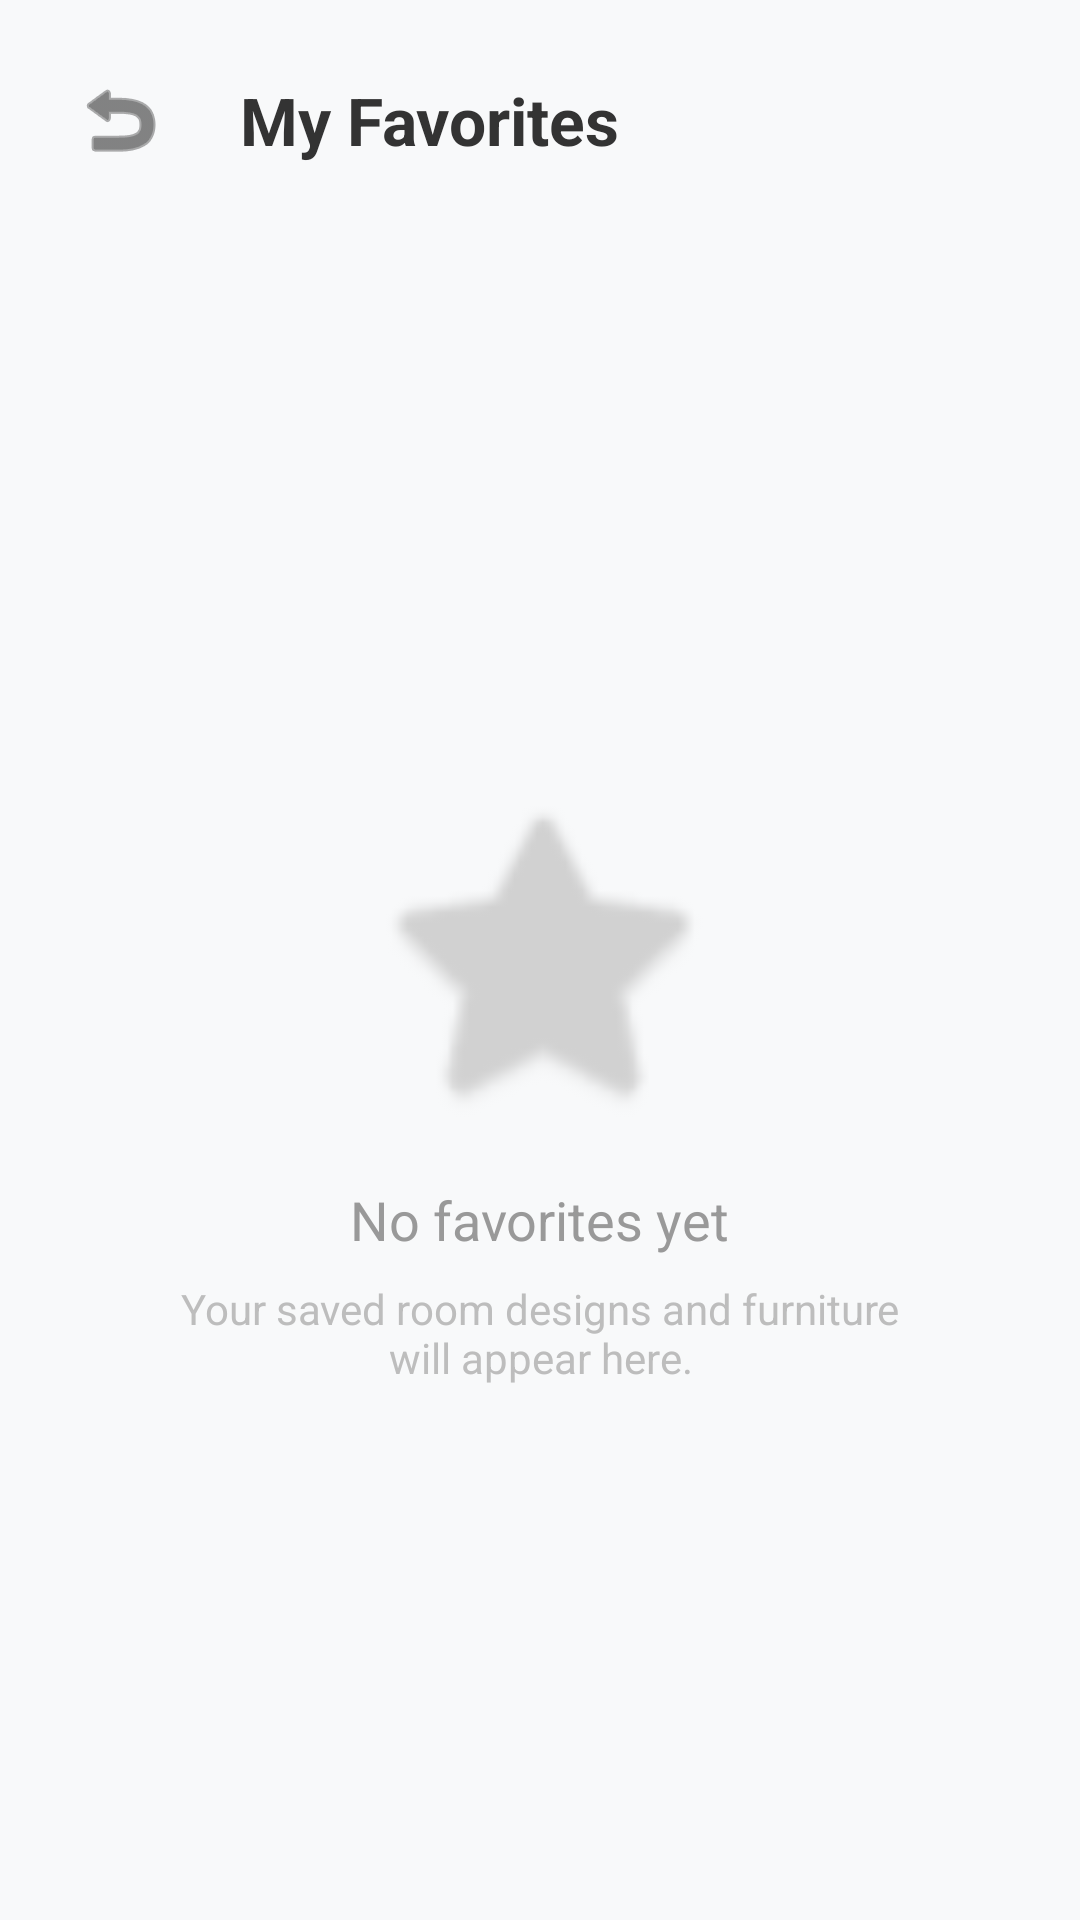

Where to tap for icons on this 1080×1920 app screen, as (x,y):
revert: (121,120)
star off: (543,956)
